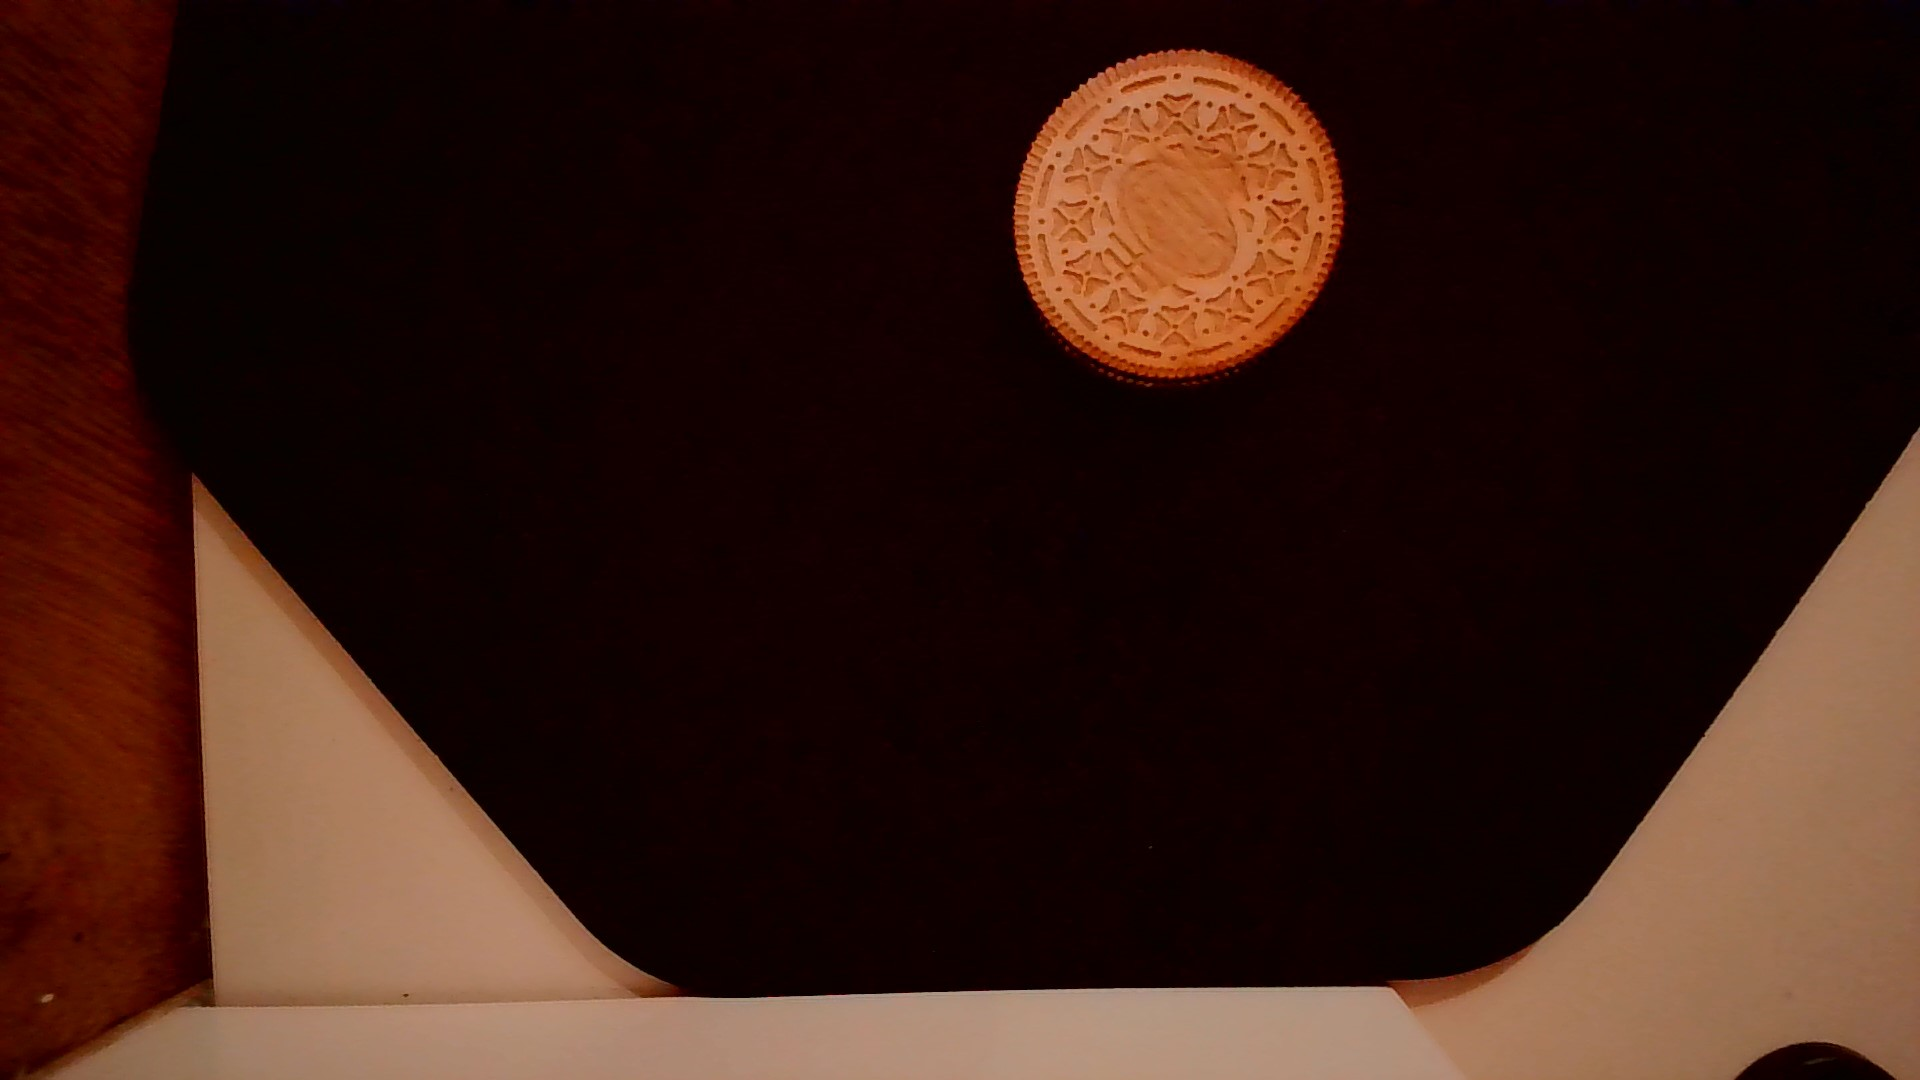Effacé: (1124, 156, 1244, 255)
Oréo: (1000, 32, 1360, 405)
